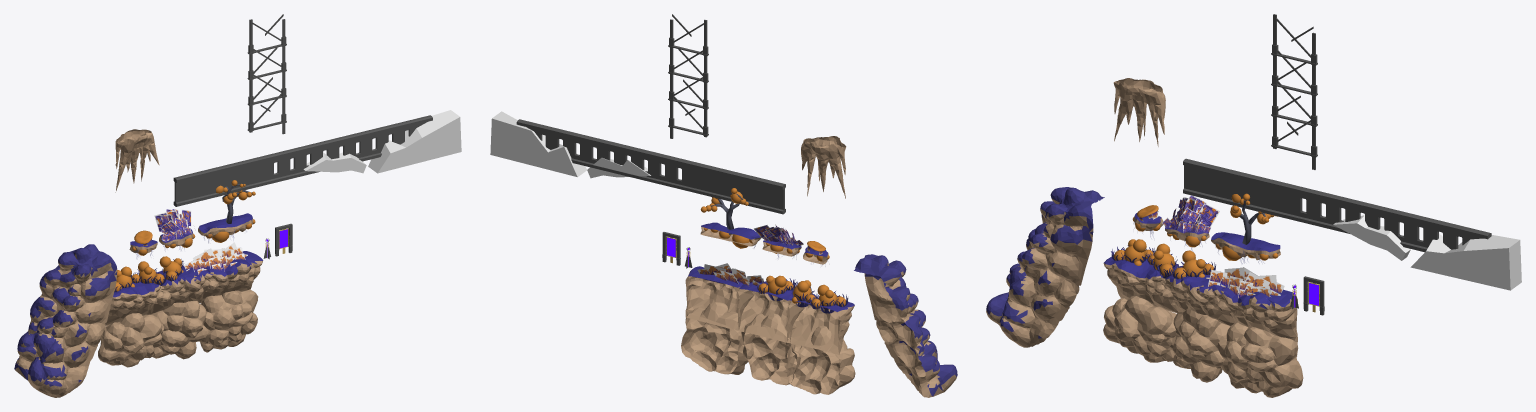
The model's file is LevelPrefabModels.fbx.
3 views of the same model, side by side, from view 1: azimuth 30°, elevation 25°; view 2: azimuth 150°, elevation 25°; view 3: azimuth 330°, elevation 25° (orthographic). The views are drawn at different scales.
Visible parts, largest first — view 1: TerrainSlope1, Debris1, Cube.001, UndergroundChunk3, UndergroundChunk1, UndergroundChunk2, Debris2, TerrainChunk3, TerrainChunk1, Stalactite, TerrainChunk2, GrassPatch (+6 smaller); view 2: Debris1, TerrainSlope1, Cube.001, UndergroundChunk3, UndergroundChunk1, UndergroundChunk2, TerrainChunk3, TerrainChunk1, TerrainChunk2, Debris2, Stalactite, Platform.6.5 (+8 smaller); view 3: TerrainSlope1, Debris1, Cube.001, UndergroundChunk3, UndergroundChunk1, UndergroundChunk2, TerrainChunk3, Debris2, Stalactite, TerrainChunk1, TerrainChunk2, GrassPatch (+8 smaller).
Boxes of the visible parts, x1,y1,x2,y2 form: TerrainSlope1: [14, 244, 117, 397]; Debris1: [173, 115, 432, 206]; Cube.001: [303, 110, 461, 173]; UndergroundChunk3: [199, 289, 258, 352]; UndergroundChunk1: [98, 313, 163, 367]; UndergroundChunk2: [151, 301, 208, 359]; Debris2: [247, 14, 286, 134]; TerrainChunk3: [199, 251, 263, 303]; TerrainChunk1: [105, 281, 164, 325]; Stalactite: [115, 129, 159, 192]; TerrainChunk2: [152, 265, 212, 313]; GrassPatch: [184, 242, 247, 274]; Debris1: [516, 119, 785, 214]; TerrainSlope1: [854, 254, 957, 397]; Cube.001: [490, 111, 650, 178]; UndergroundChunk3: [681, 302, 755, 374]; UndergroundChunk1: [787, 325, 855, 394]; UndergroundChunk2: [741, 313, 800, 385]; TerrainChunk3: [685, 266, 755, 330]; TerrainChunk1: [787, 293, 854, 354]; TerrainChunk2: [736, 281, 804, 343]; Debris2: [668, 14, 708, 138]; Stalactite: [801, 136, 846, 198]; Platform.6.5: [700, 222, 760, 248]; TerrainSlope1: [986, 187, 1104, 347]; Debris1: [1183, 158, 1491, 252]; Cube.001: [1333, 215, 1521, 290]; UndergroundChunk3: [1217, 322, 1303, 397]; UndergroundChunk1: [1103, 296, 1176, 362]; UndergroundChunk2: [1170, 308, 1230, 382]; TerrainChunk3: [1217, 286, 1297, 342]; Debris2: [1271, 14, 1317, 169]; Stalactite: [1113, 78, 1165, 146]; TerrainChunk1: [1103, 256, 1178, 312]; TerrainChunk2: [1160, 266, 1234, 325]; GrassPatch: [1206, 267, 1284, 298].
Size of the model in its own units: 5306 by 3839 by 613.
